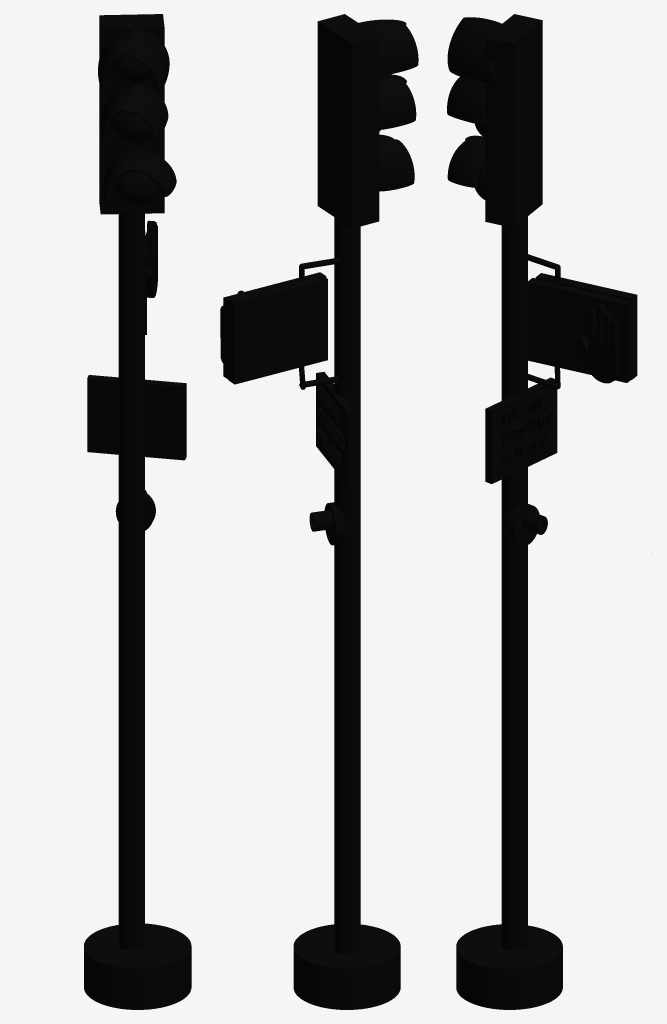
Rendered from traffic light.fbx.
The picture shows the model from 3 angles, left to right: view 1: azimuth 30°, elevation 25°; view 2: azimuth 150°, elevation 25°; view 3: azimuth 270°, elevation 25°; orthographic projection.
Visible parts, largest first — view 1: node_id811, node_id815, node_id795, node_id821, node_id836, node_id842, node_id851, node_id823, node_id819, node_id839, node_id805, node_id817 (+2 smaller); view 2: node_id811, node_id821, node_id809, node_id815, node_id795, node_id839, node_id845, node_id848, node_id807, node_id791; view 3: node_id811, node_id821, node_id815, node_id807, node_id795, node_id836, node_id805, node_id842, node_id851, node_id809, node_id791, node_id828 (+2 smaller).
Part boxes in pixels (x1=…): node_id811: x1=118, y1=213, x2=144, y2=950; node_id815: x1=84, y1=923, x2=191, y2=1009; node_id795: x1=87, y1=375, x2=186, y2=460; node_id821: x1=99, y1=14, x2=164, y2=214; node_id836: x1=124, y1=24, x2=169, y2=91; node_id842: x1=123, y1=84, x2=168, y2=139; node_id851: x1=128, y1=149, x2=176, y2=196; node_id823: x1=112, y1=171, x2=160, y2=205; node_id819: x1=110, y1=111, x2=153, y2=144; node_id839: x1=98, y1=30, x2=129, y2=87; node_id805: x1=145, y1=220, x2=157, y2=297; node_id817: x1=110, y1=55, x2=152, y2=83; node_id811: x1=334, y1=217, x2=360, y2=954; node_id821: x1=317, y1=14, x2=379, y2=228; node_id809: x1=228, y1=274, x2=327, y2=384; node_id815: x1=293, y1=924, x2=400, y2=1009; node_id795: x1=316, y1=372, x2=355, y2=485; node_id839: x1=366, y1=21, x2=418, y2=75; node_id845: x1=379, y1=77, x2=416, y2=129; node_id848: x1=379, y1=139, x2=414, y2=191; node_id807: x1=223, y1=272, x2=326, y2=379; node_id791: x1=324, y1=502, x2=345, y2=545; node_id811: x1=501, y1=216, x2=527, y2=950; node_id821: x1=485, y1=14, x2=542, y2=227; node_id815: x1=456, y1=924, x2=562, y2=1009; node_id807: x1=527, y1=278, x2=632, y2=382; node_id795: x1=485, y1=377, x2=557, y2=483; node_id836: x1=447, y1=17, x2=506, y2=82; node_id805: x1=577, y1=303, x2=619, y2=383; node_id842: x1=447, y1=76, x2=486, y2=124; node_id851: x1=447, y1=137, x2=485, y2=187; node_id809: x1=535, y1=273, x2=637, y2=379; node_id791: x1=506, y1=503, x2=539, y2=546; node_id828: x1=502, y1=411, x2=554, y2=445.
Bounding box in the file's own units: 0.0705 × 0.5111 × 0.0995.
Materials: 45 (15 with a texture image).
